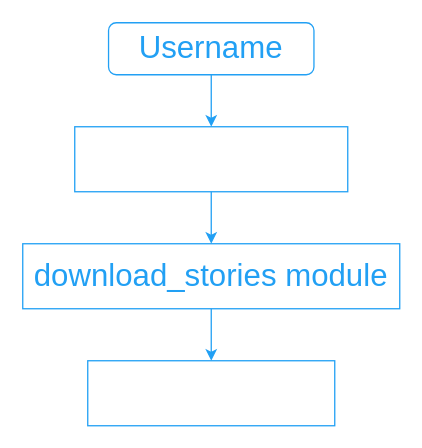
Image size: 422x448. Some labels were removed from this diagram. Each missing label, with the centre of its shape:
"Check Profile ID" goes at point 210,158.
"Zip all the files" goes at point 210,392.
